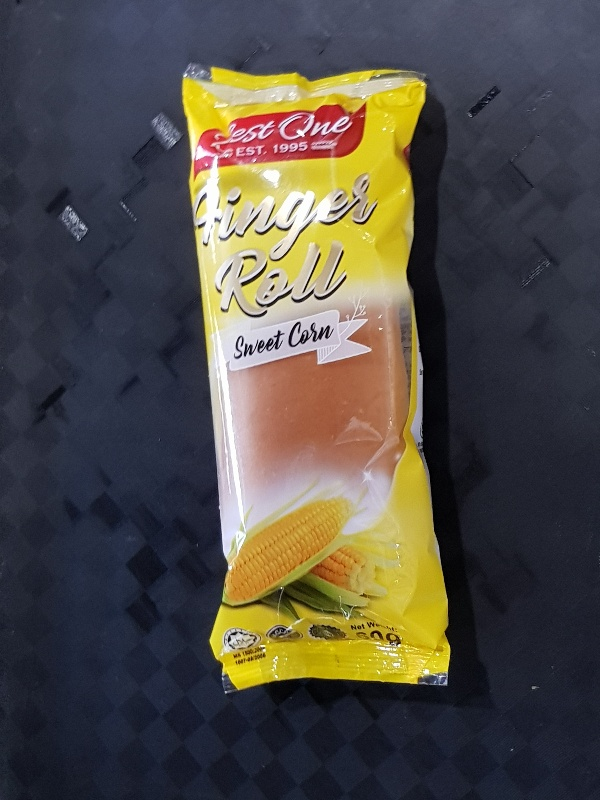Tinges Roll Sweet Corn: (180, 61, 449, 696)
